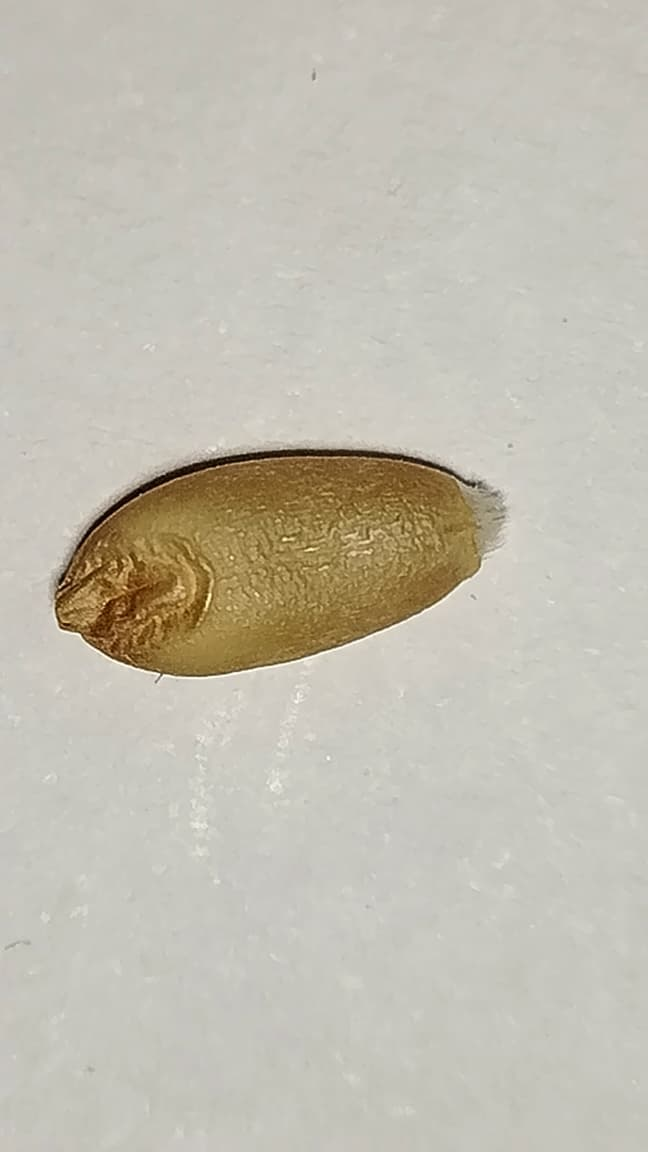healthy: (54, 449, 503, 674)
